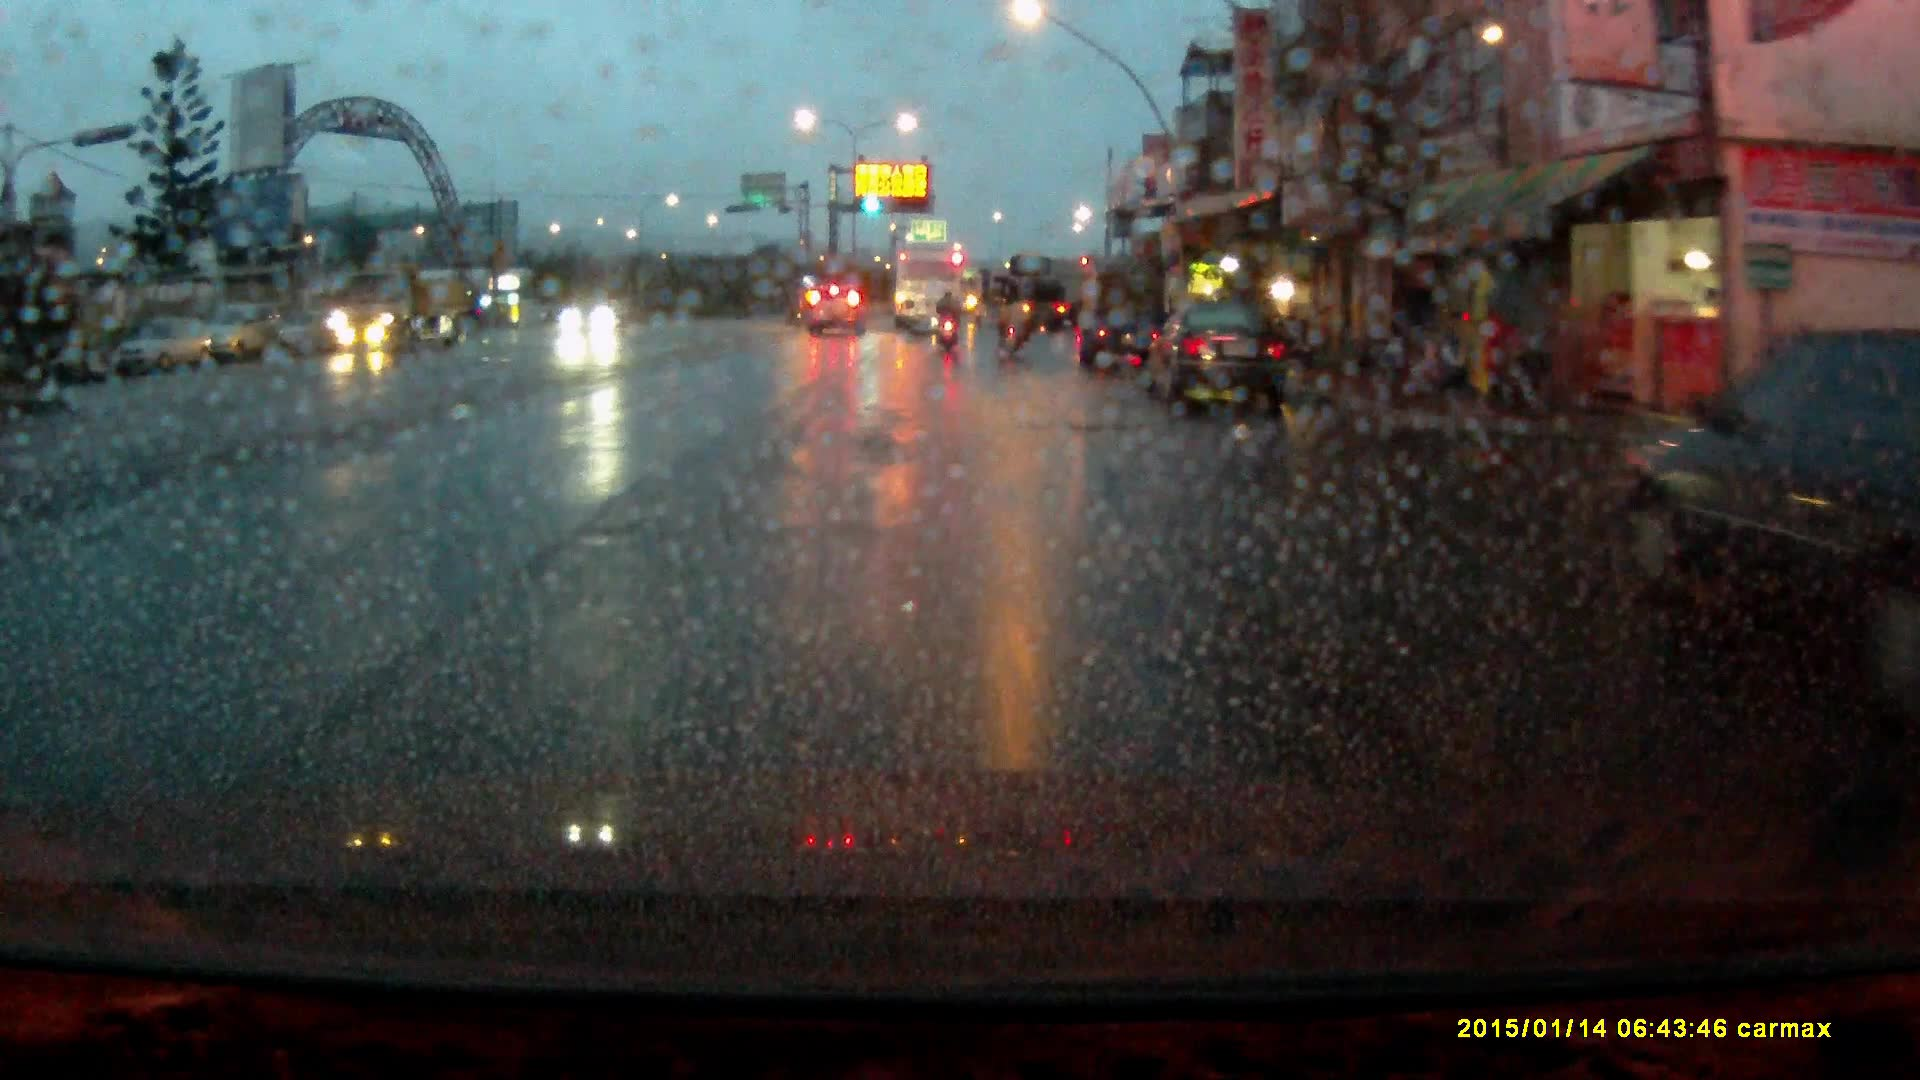rider: (993, 276, 1028, 358), (934, 286, 963, 350)
vehicle: (1598, 334, 1920, 623), (1148, 304, 1295, 419), (321, 263, 478, 350), (1075, 261, 1169, 365), (894, 247, 963, 335), (115, 317, 207, 376), (1006, 255, 1072, 336), (198, 301, 282, 358), (806, 278, 869, 337), (564, 295, 627, 335)
